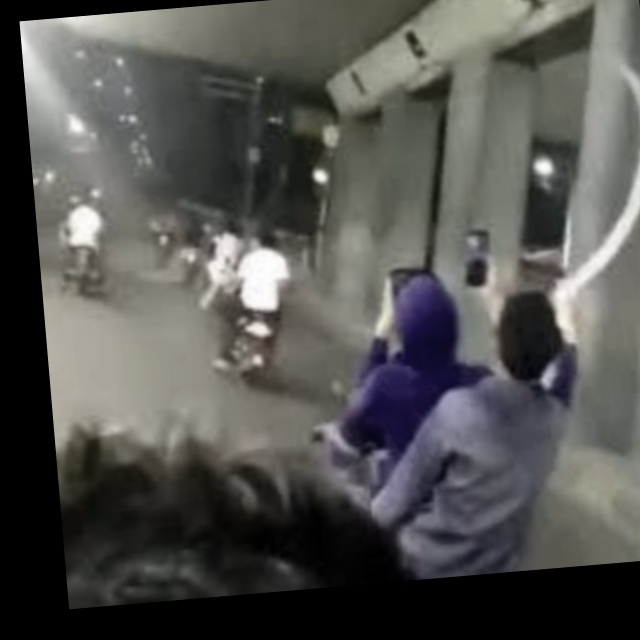Sharp-Object: (527, 32, 640, 409)
